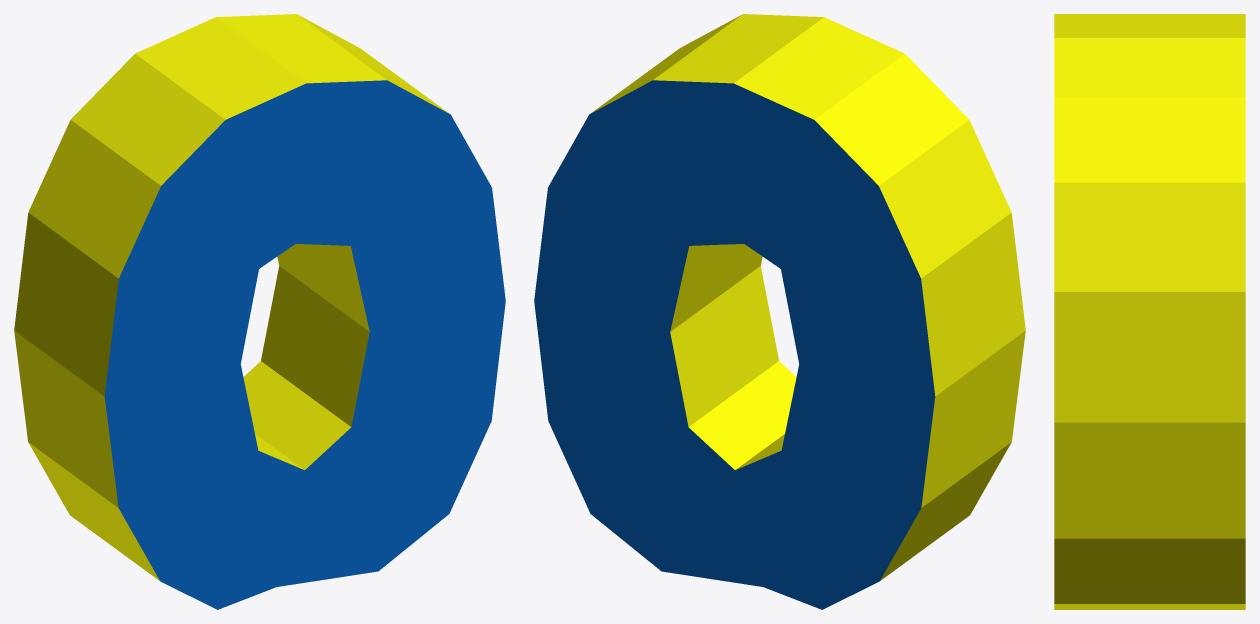
3 views of the same model, side by side, from view 1: azimuth 30°, elevation 25°; view 2: azimuth 150°, elevation 25°; view 3: azimuth 270°, elevation 25° (orthographic). The views are drawn at different scales.
Visible parts, largest first — view 1: text: ABCDEFGHIJKLMNOPQRSTUVWXYZ01234567891_sep27_blue, text: ABCDEFGHIJKLMNOPQRSTUVWXYZ01234567891_sep27_yellow; view 2: text: ABCDEFGHIJKLMNOPQRSTUVWXYZ01234567891_sep27_blue, text: ABCDEFGHIJKLMNOPQRSTUVWXYZ01234567891_sep27_yellow; view 3: text: ABCDEFGHIJKLMNOPQRSTUVWXYZ01234567891_sep27_yellow.
Boxes of the visible parts, <box> form: text: ABCDEFGHIJKLMNOPQRSTUVWXYZ01234567891_sep27_blue: <box>104,80,505,609</box>; text: ABCDEFGHIJKLMNOPQRSTUVWXYZ01234567891_sep27_yellow: <box>14,14,449,580</box>; text: ABCDEFGHIJKLMNOPQRSTUVWXYZ01234567891_sep27_blue: <box>534,80,935,609</box>; text: ABCDEFGHIJKLMNOPQRSTUVWXYZ01234567891_sep27_yellow: <box>590,14,1025,580</box>; text: ABCDEFGHIJKLMNOPQRSTUVWXYZ01234567891_sep27_yellow: <box>1054,14,1245,609</box>.
Size of the model in its own units: 63.93 by 77.02 by 25.
